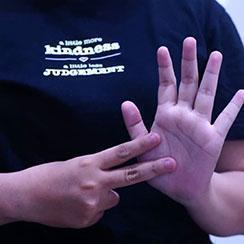N: (14, 32, 244, 235)
